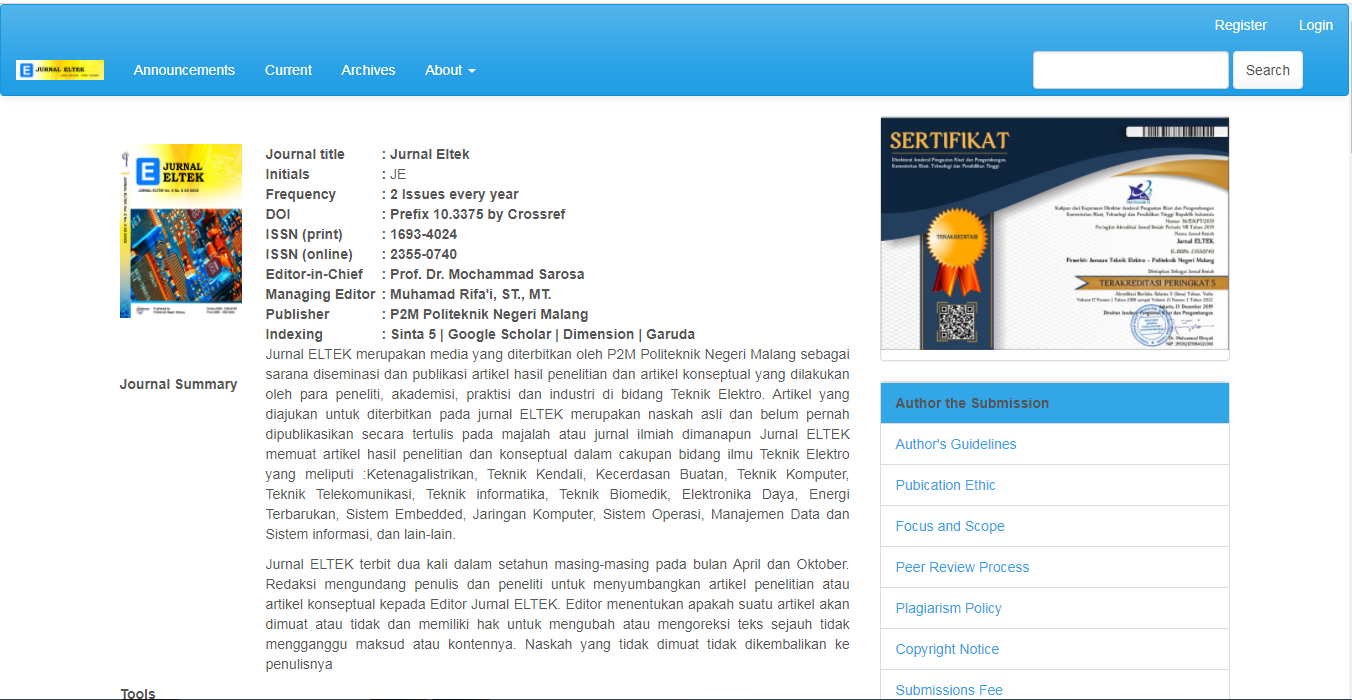Button: (1229, 46, 1310, 93)
Image: (877, 118, 1227, 349), (116, 139, 249, 326), (16, 58, 105, 82)
Menu Bar: (127, 55, 488, 93)
Nav Bar: (1286, 9, 1347, 44), (1207, 12, 1272, 40)
Side Bar: (872, 108, 1237, 700)
Text Field: (1030, 52, 1230, 92)
